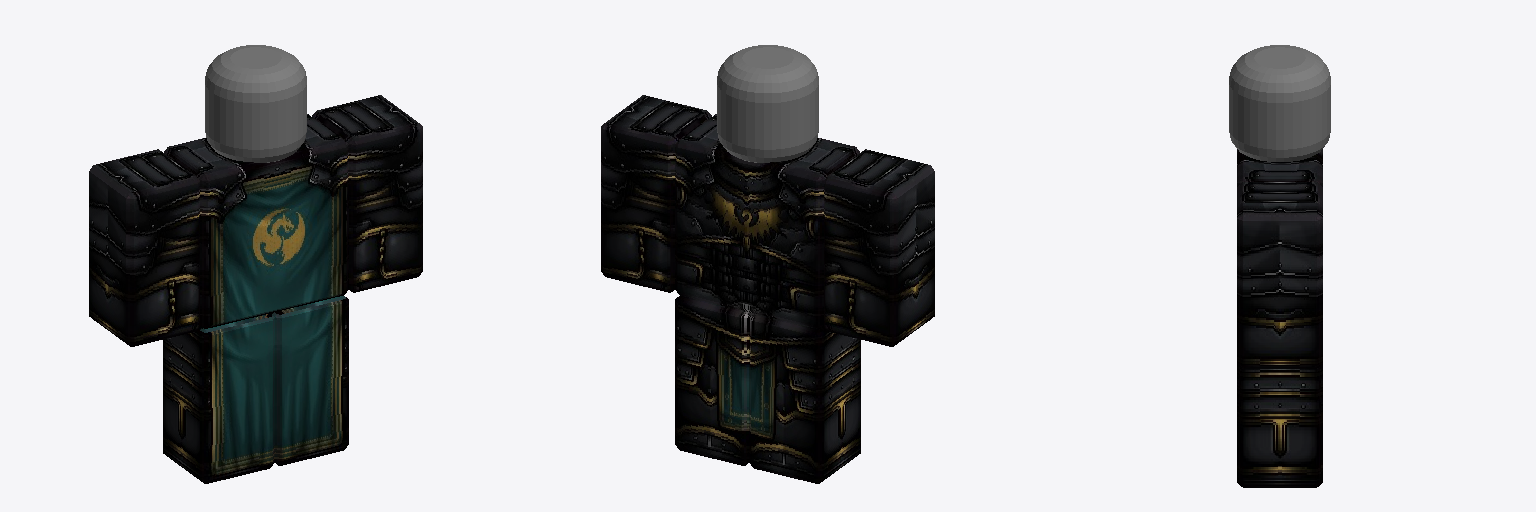
3 views of the same model, side by side, from view 1: azimuth 30°, elevation 25°; view 2: azimuth 150°, elevation 25°; view 3: azimuth 270°, elevation 25° (orthographic).
Parts seen in each view (by area): view 1: Wyvern5, Wyvern4, Wyvern2, Wyvern3, Wyvern1, Wyvern6; view 2: Wyvern5, Wyvern4, Wyvern2, Wyvern3, Wyvern1, Wyvern6; view 3: Wyvern3, Wyvern6, Wyvern1, Wyvern5.
Part boxes in pixels (x1,y1,x2,y2): Wyvern5: (164, 114, 348, 328); Wyvern4: (89, 149, 199, 346); Wyvern2: (163, 314, 274, 483); Wyvern3: (312, 95, 422, 292); Wyvern1: (270, 296, 348, 465); Wyvern6: (205, 45, 306, 162); Wyvern5: (675, 114, 859, 328); Wyvern4: (824, 149, 934, 346); Wyvern2: (749, 314, 860, 483); Wyvern3: (601, 95, 711, 292); Wyvern1: (675, 296, 753, 465); Wyvern6: (717, 45, 818, 162); Wyvern3: (1237, 182, 1322, 368); Wyvern6: (1229, 45, 1330, 161); Wyvern1: (1237, 364, 1322, 487); Wyvern5: (1237, 149, 1322, 186).
Bounding box in the file's own units: 4 × 5.1 × 1.2.
1 materials, 1 textured.